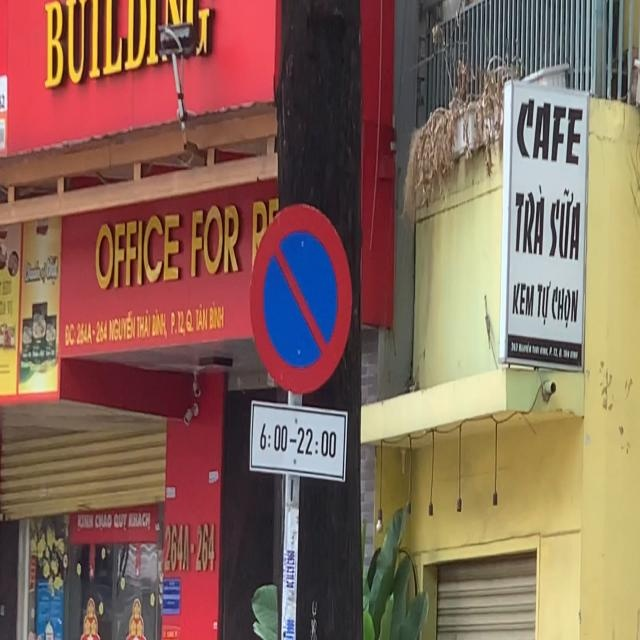bien_cam: (248, 203, 352, 394)
